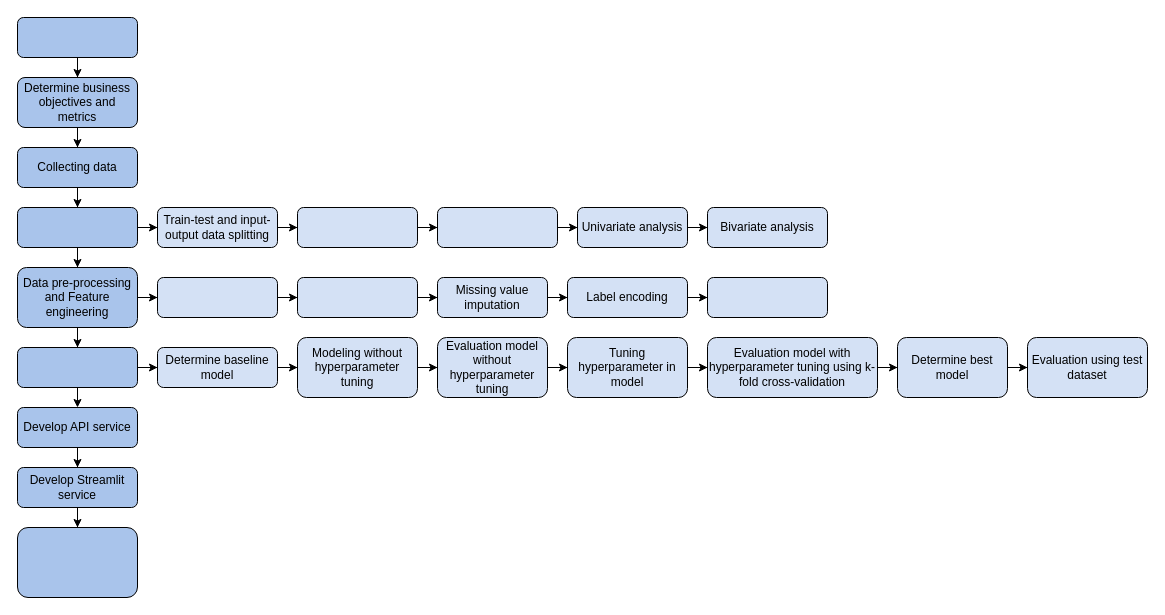
Image size: 1165x615. Some labels were removed from this diagram. Each missing label, with the centre of its shape:
"Build container to package API and Streamlit using Docker" goes at pixel 77 562.
"Check data types" goes at pixel 357 227.
"Check missing value" goes at pixel 497 227.
"Data exploration" goes at pixel 77 227.
"Drop unneccesary features" goes at pixel 217 297.
"Fixing data type" goes at pixel 357 297.
"Modeling" goes at pixel 77 367.
"Problem definition" goes at pixel 77 37.
"Train dataset resampling" goes at pixel 767 297.
